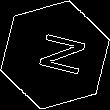N_W: (25, 29, 85, 81)
